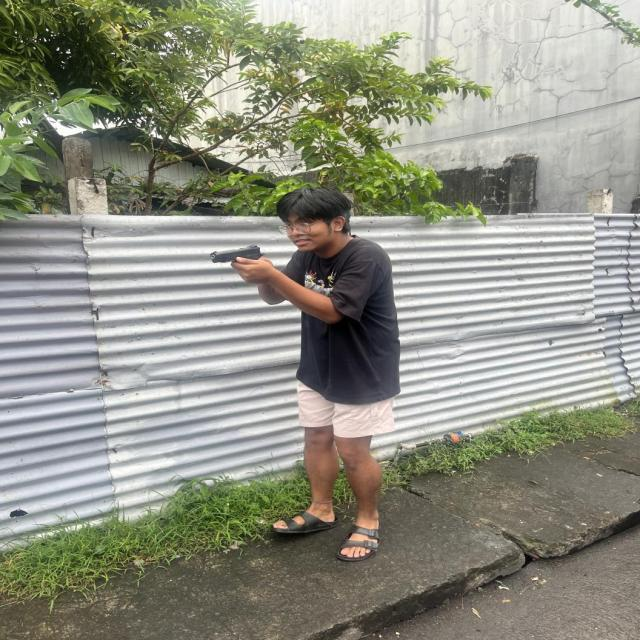pistol: (202, 238, 282, 291)
